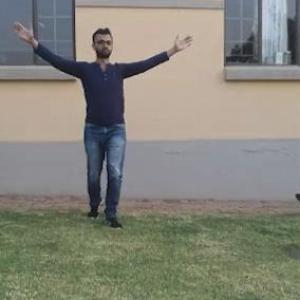takeoff: (18, 25, 190, 220)
